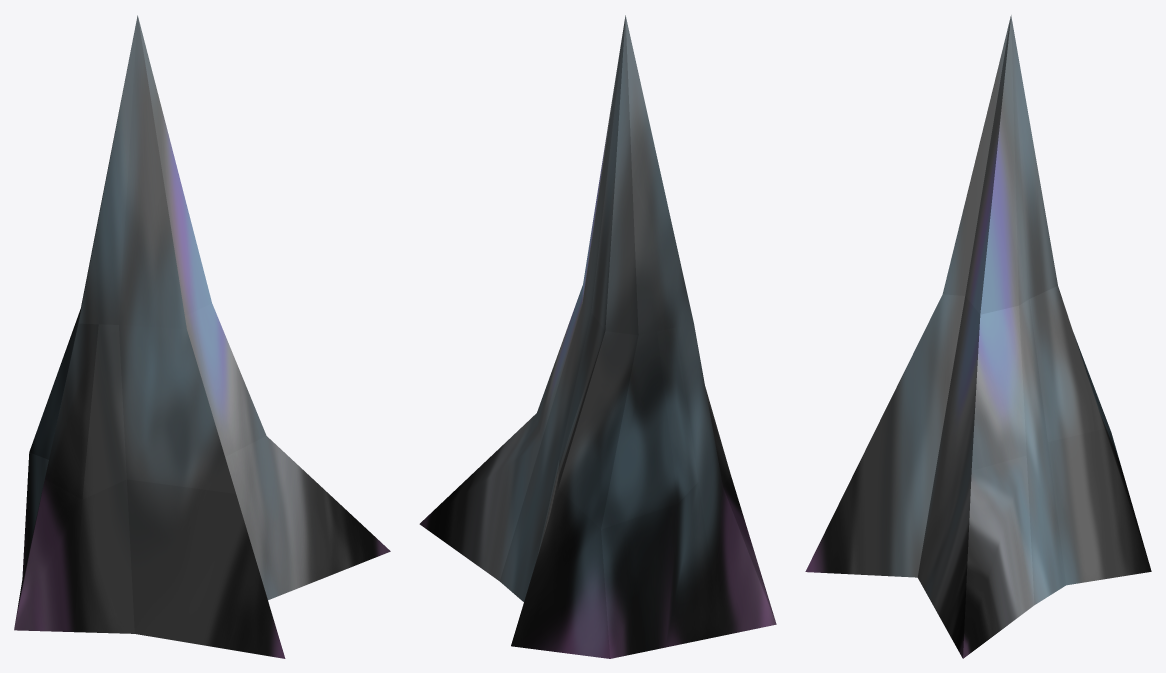
The model's file is Mountain3.fbx.
The picture shows the model from 3 angles, left to right: view 1: azimuth 30°, elevation 25°; view 2: azimuth 150°, elevation 25°; view 3: azimuth 270°, elevation 25°; orthographic projection. The views are drawn at different scales.
Visible parts, largest first — view 1: Mountain3; view 2: Mountain3; view 3: Mountain3.
Part boxes in pixels (box(x1,y1,x2,y2)): Mountain3: box(14, 15, 390, 658); Mountain3: box(419, 15, 776, 658); Mountain3: box(805, 15, 1151, 658).
Bounding box in the file's own units: 1957 × 2954 × 1716.
